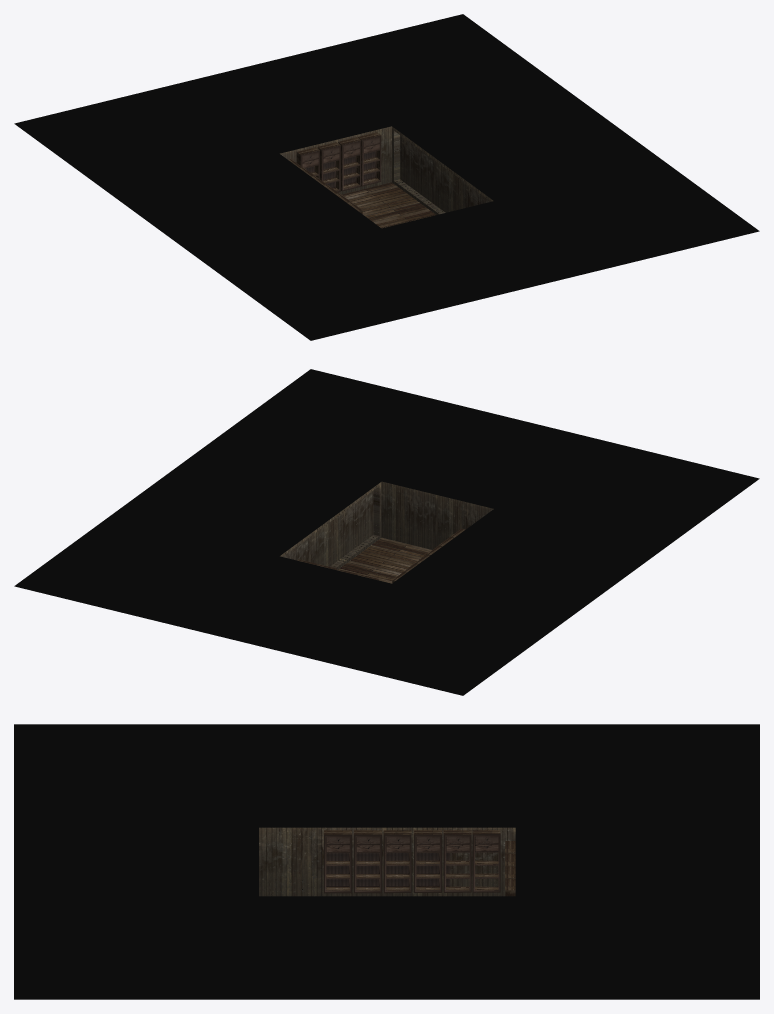
File: mod_bakery.fbx
3 renders of one model, top to bottom at view 1: azimuth 30°, elevation 25°; view 2: azimuth 150°, elevation 25°; view 3: azimuth 270°, elevation 25°, orthographic. The views are drawn at different scales.
Visible parts, largest first — view 1: polySurface7; view 2: polySurface7; view 3: polySurface7.
Boxes of the visible parts, x1,y1,x2,y2 form: polySurface7: [14, 14, 759, 340]; polySurface7: [14, 369, 759, 695]; polySurface7: [14, 724, 759, 999].
Size of the model in its own units: 64.2 by 7.67 by 73.5.
